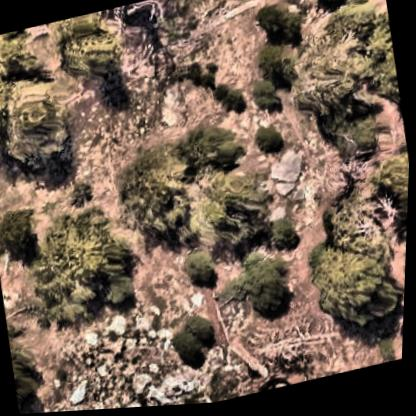tree-top: (116, 115, 286, 290), (264, 11, 410, 170), (13, 197, 154, 340), (301, 227, 409, 343), (321, 158, 411, 267), (0, 81, 80, 179), (213, 250, 306, 331), (52, 19, 132, 96), (169, 308, 229, 370), (251, 0, 313, 56), (170, 245, 229, 293), (0, 27, 36, 104), (0, 201, 40, 260), (262, 213, 309, 261), (208, 79, 255, 126), (244, 78, 287, 124), (302, 0, 366, 25), (251, 125, 289, 164)
